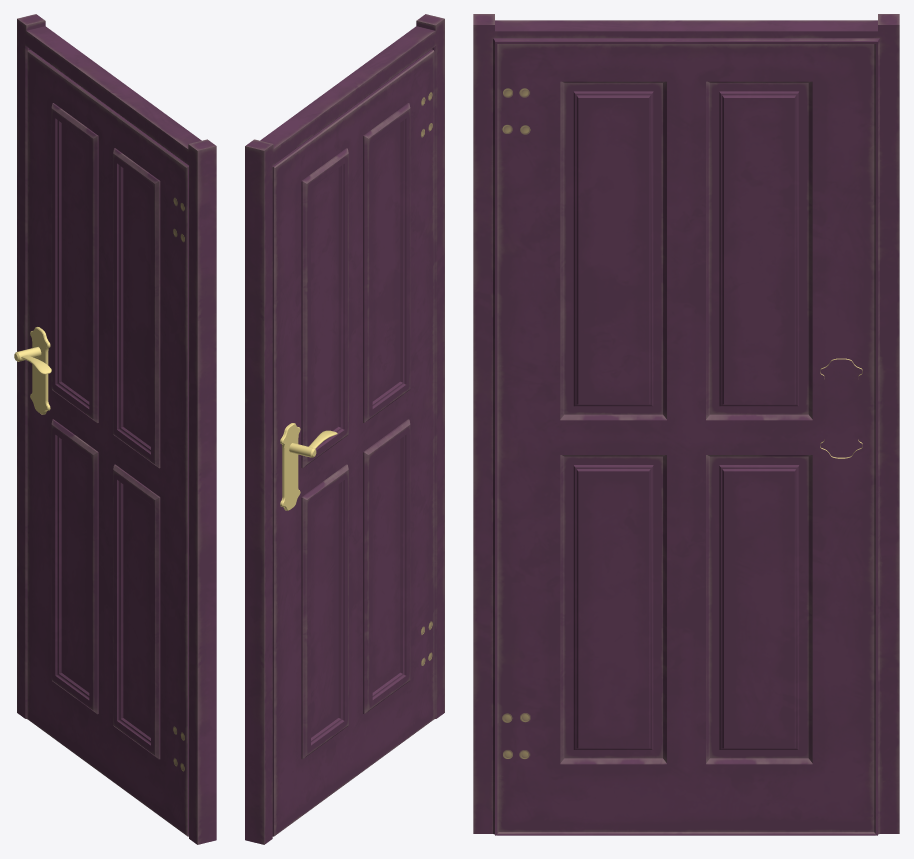
File: door.gltf
The picture shows the model from 3 angles, left to right: view 1: azimuth 30°, elevation 25°; view 2: azimuth 150°, elevation 25°; view 3: azimuth 270°, elevation 25°; orthographic projection. The views are drawn at different scales.
Parts seen in each view (by area): view 1: Door; view 2: Door; view 3: Door.
Boxes of the visible parts, x1,y1,x2,y2 form: Door: [14, 14, 216, 844]; Door: [245, 14, 444, 844]; Door: [473, 14, 899, 835].
Size of the model in its own units: 14.01 by 207 by 97.41.
1 material, 1 textured.
